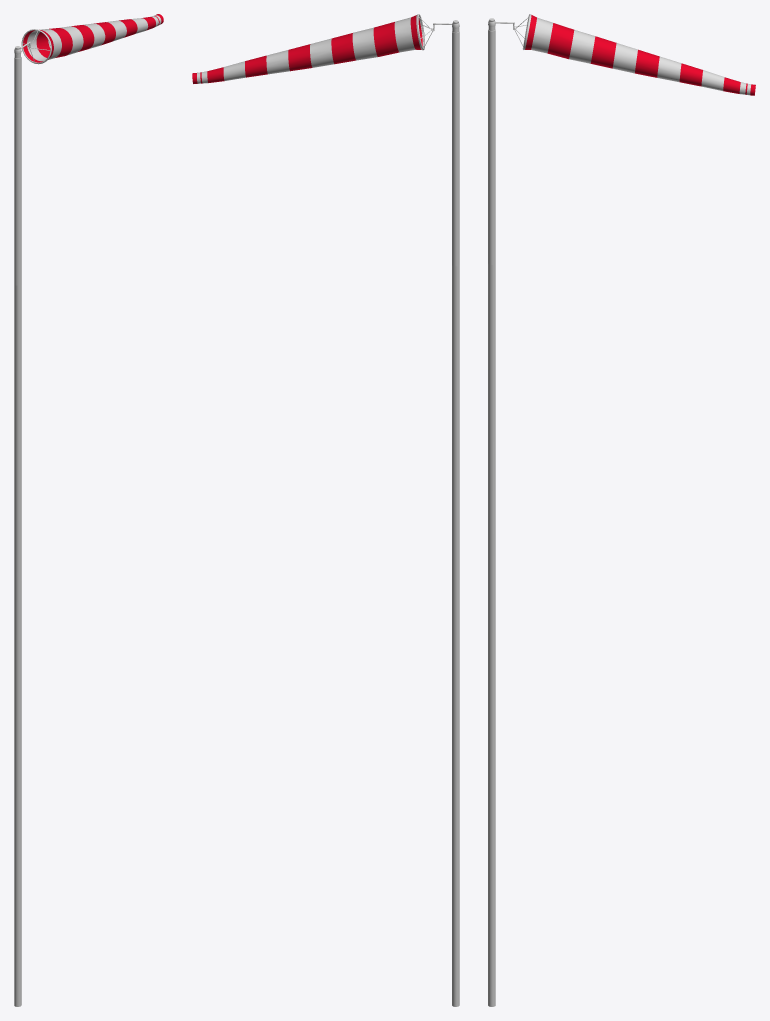
The model's file is windsack.gltf.
3 views of the same model, side by side, from view 1: azimuth 30°, elevation 25°; view 2: azimuth 150°, elevation 25°; view 3: azimuth 330°, elevation 25° (orthographic). The views are drawn at different scales.
Visible parts, largest first — view 1: air_speed_indicator.001; view 2: air_speed_indicator.001; view 3: air_speed_indicator.001.
Boxes of the visible parts, left/top/right/bottom form: air_speed_indicator.001: left=14, top=14, right=163, bottom=1006; air_speed_indicator.001: left=192, top=14, right=459, bottom=1006; air_speed_indicator.001: left=488, top=14, right=755, bottom=1006.
Bounding box in the file's own units: 22.38 × 101 × 11.68.
